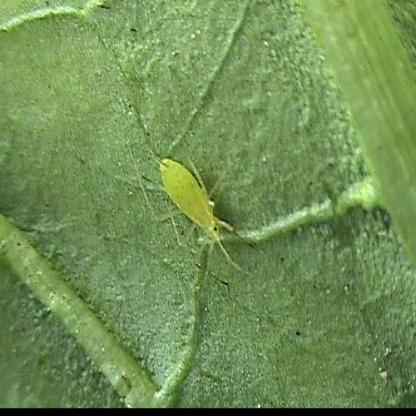aphid: (142, 142, 244, 257)
